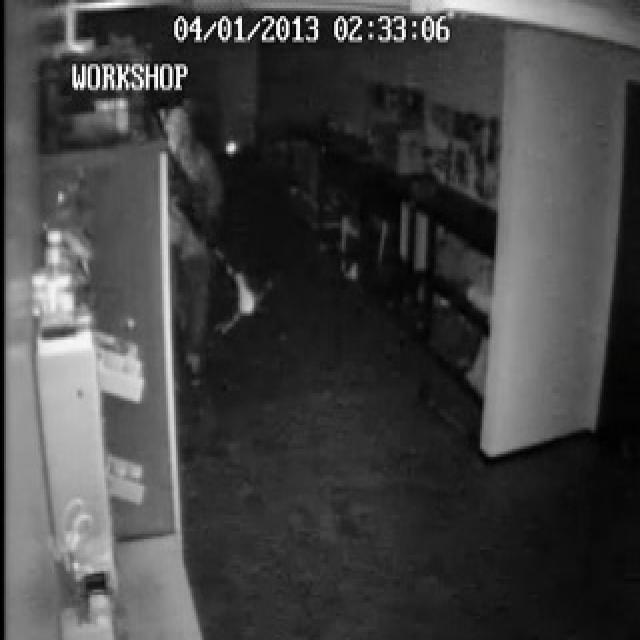thief: (154, 95, 236, 303)
